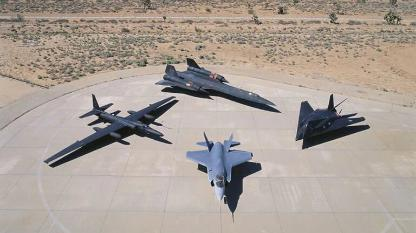E7: (293, 93, 365, 142)
F22: (186, 130, 252, 210)
Rafale: (154, 58, 276, 108)
Tu160: (43, 93, 176, 164)
